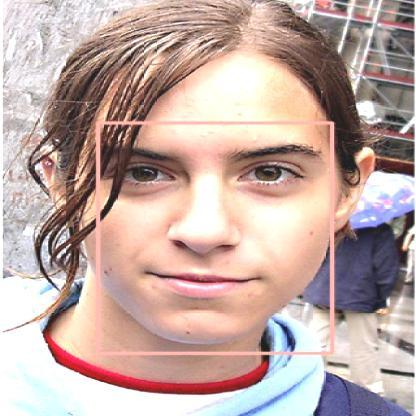without_mask: (98, 122, 332, 353)
